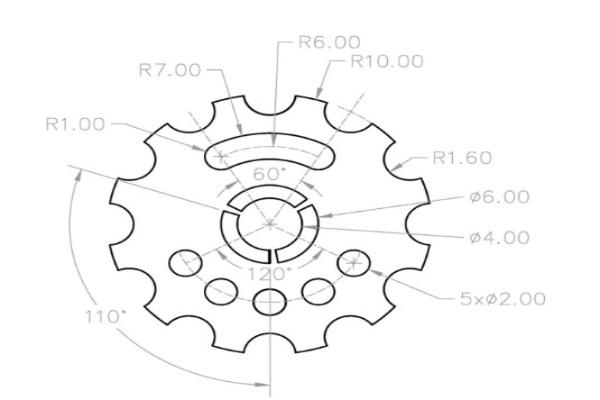dimensions: (449, 278, 559, 316), (125, 48, 212, 84), (19, 109, 114, 140), (465, 218, 542, 251), (427, 140, 501, 174), (348, 51, 433, 79), (289, 20, 370, 49), (464, 185, 539, 215)
